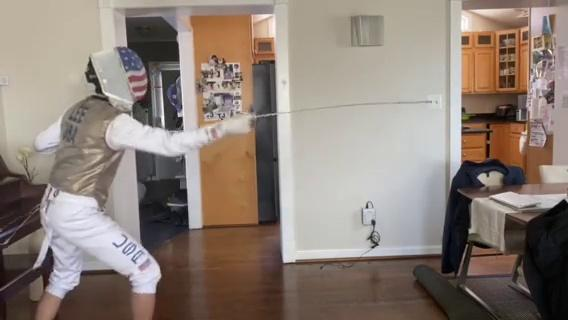blade-guard: (241, 109, 262, 130)
blade-tip: (391, 101, 436, 106)
fencing-blade: (236, 99, 437, 132)
